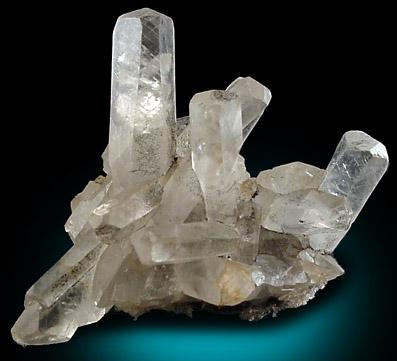calcite: (11, 8, 389, 346)
